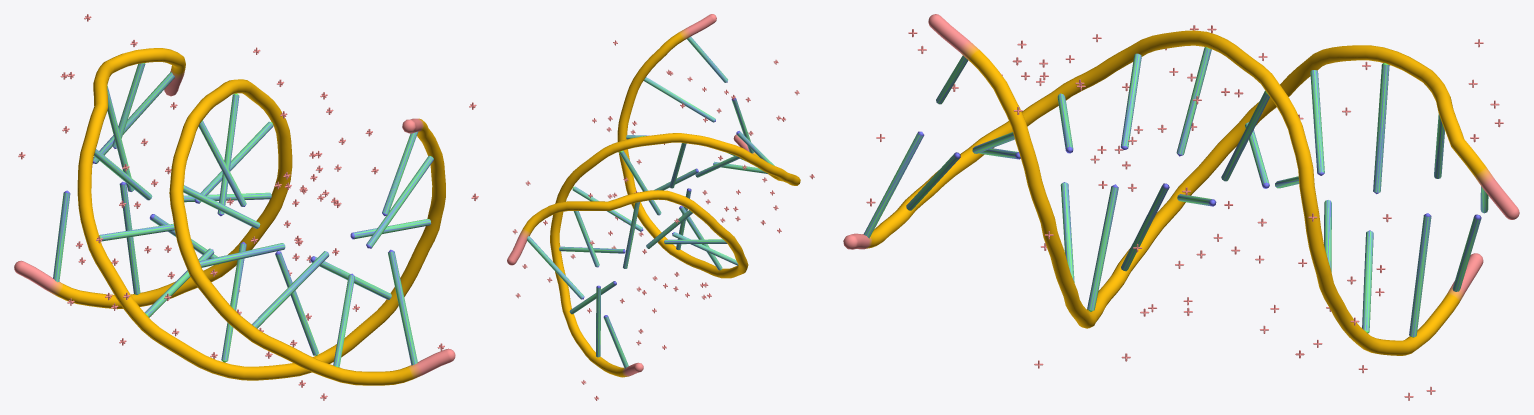
The model's file is dna1.gltf.
3 renders of one model, left to right at view 1: azimuth 30°, elevation 25°; view 2: azimuth 150°, elevation 25°; view 3: azimuth 270°, elevation 25°, orthographic. The views are drawn at different scales.
Parts seen in each view (by area): view 1: node-geom0, node-geom24, node-geom2, node-geom18, node-geom14, node-geom22, node-geom5, node-geom6, node-geom12, node-geom23, node-geom13, node-geom19 (+12 smaller); view 2: node-geom0, node-geom12, node-geom2, node-geom14, node-geom10, node-geom18, node-geom11, node-geom8, node-geom16, node-geom17, node-geom7, node-geom6 (+3 smaller); view 3: node-geom0, node-geom10, node-geom5, node-geom14, node-geom24, node-geom19, node-geom9, node-geom15, node-geom20, node-geom18, node-geom6, node-geom4 (+2 smaller).
Part boxes in pixels (x1,y1,x2,y2): node-geom0: [14, 48, 455, 385]; node-geom24: [388, 249, 417, 365]; node-geom2: [366, 156, 433, 248]; node-geom18: [217, 93, 239, 216]; node-geom14: [119, 181, 140, 294]; node-geom22: [252, 251, 329, 328]; node-geom5: [275, 251, 318, 355]; node-geom6: [221, 241, 246, 362]; node-geom12: [92, 72, 174, 163]; node-geom23: [333, 273, 354, 367]; node-geom13: [53, 190, 70, 282]; node-geom19: [198, 120, 246, 206]; node-geom0: [507, 14, 800, 377]; node-geom12: [527, 236, 584, 299]; node-geom2: [643, 77, 715, 122]; node-geom14: [596, 285, 600, 357]; node-geom10: [623, 202, 639, 268]; node-geom18: [619, 150, 661, 215]; node-geom11: [573, 211, 599, 267]; node-geom8: [664, 239, 727, 244]; node-geom16: [559, 246, 625, 253]; node-geom17: [572, 186, 643, 231]; node-geom7: [672, 232, 738, 265]; node-geom6: [679, 205, 722, 270]; node-geom0: [843, 14, 1519, 355]; node-geom10: [1373, 63, 1389, 194]; node-geom5: [1087, 184, 1118, 311]; node-geom14: [1409, 213, 1431, 337]; node-geom24: [863, 131, 924, 238]; node-geom19: [1176, 47, 1211, 156]; node-geom9: [1310, 70, 1324, 175]; node-geom15: [1362, 230, 1373, 333]; node-geom20: [1120, 53, 1141, 149]; node-geom18: [1221, 90, 1269, 181]; node-geom6: [1121, 183, 1169, 271]; node-geom4: [1060, 182, 1074, 282].
Size of the model in its own units: 26.48 by 29.23 by 43.47.
